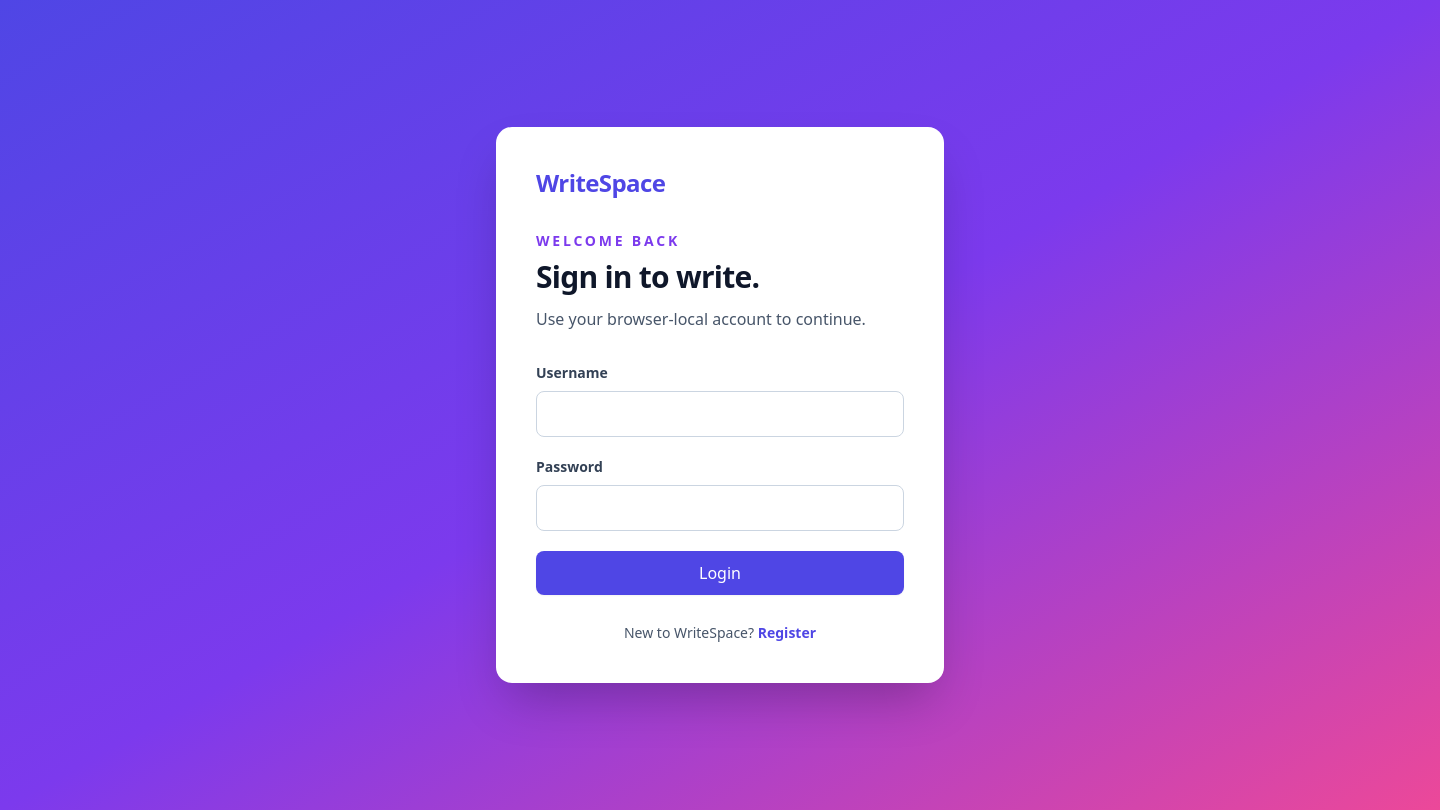
Scenario: authentication pages › shows the required invalid login message
The image size is (1440, 810).
Type "admin" into the field labelled "Username" at (720, 414), box [536, 391, 904, 437]
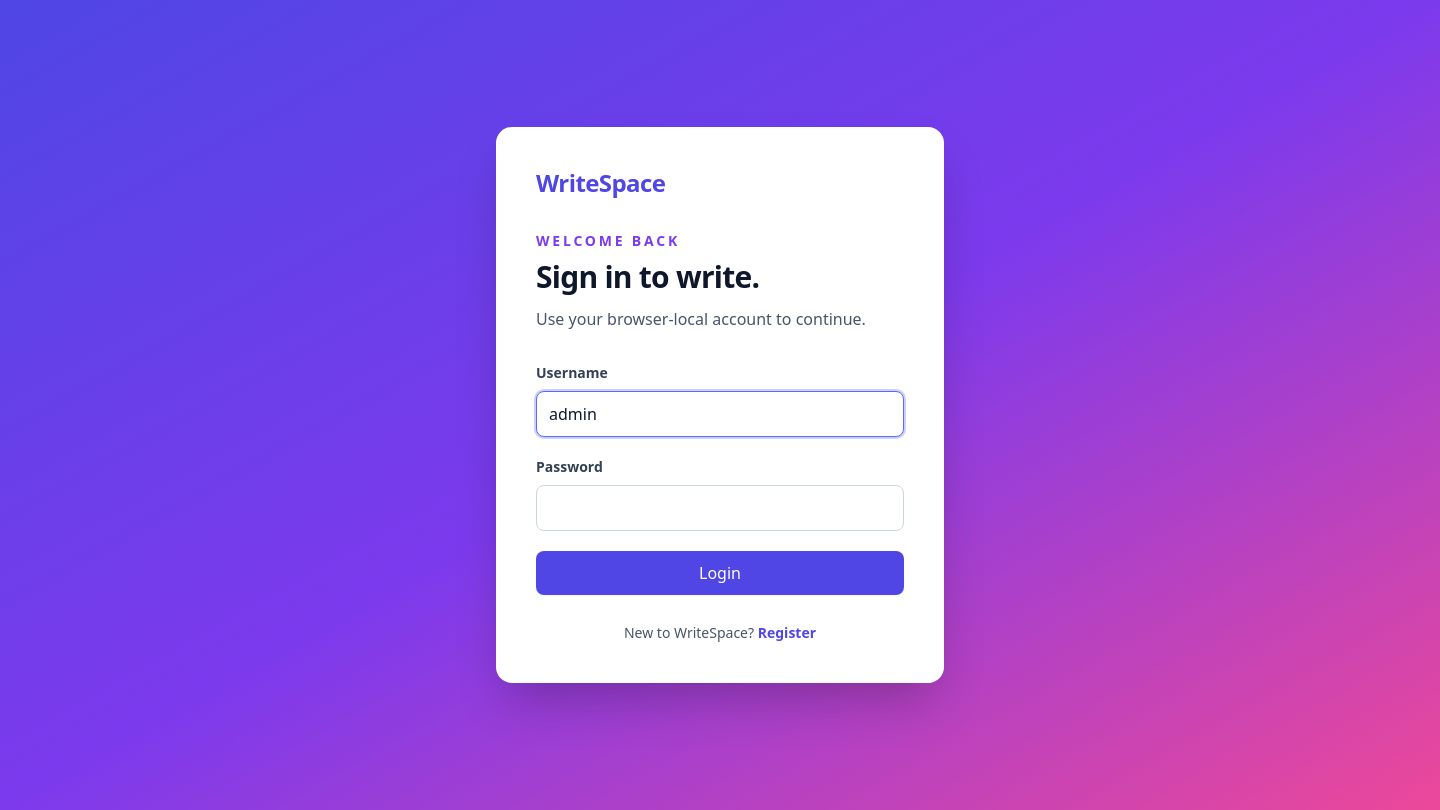
Type "bad" into the password field labelled "Password" at (720, 508), box [536, 485, 904, 531]
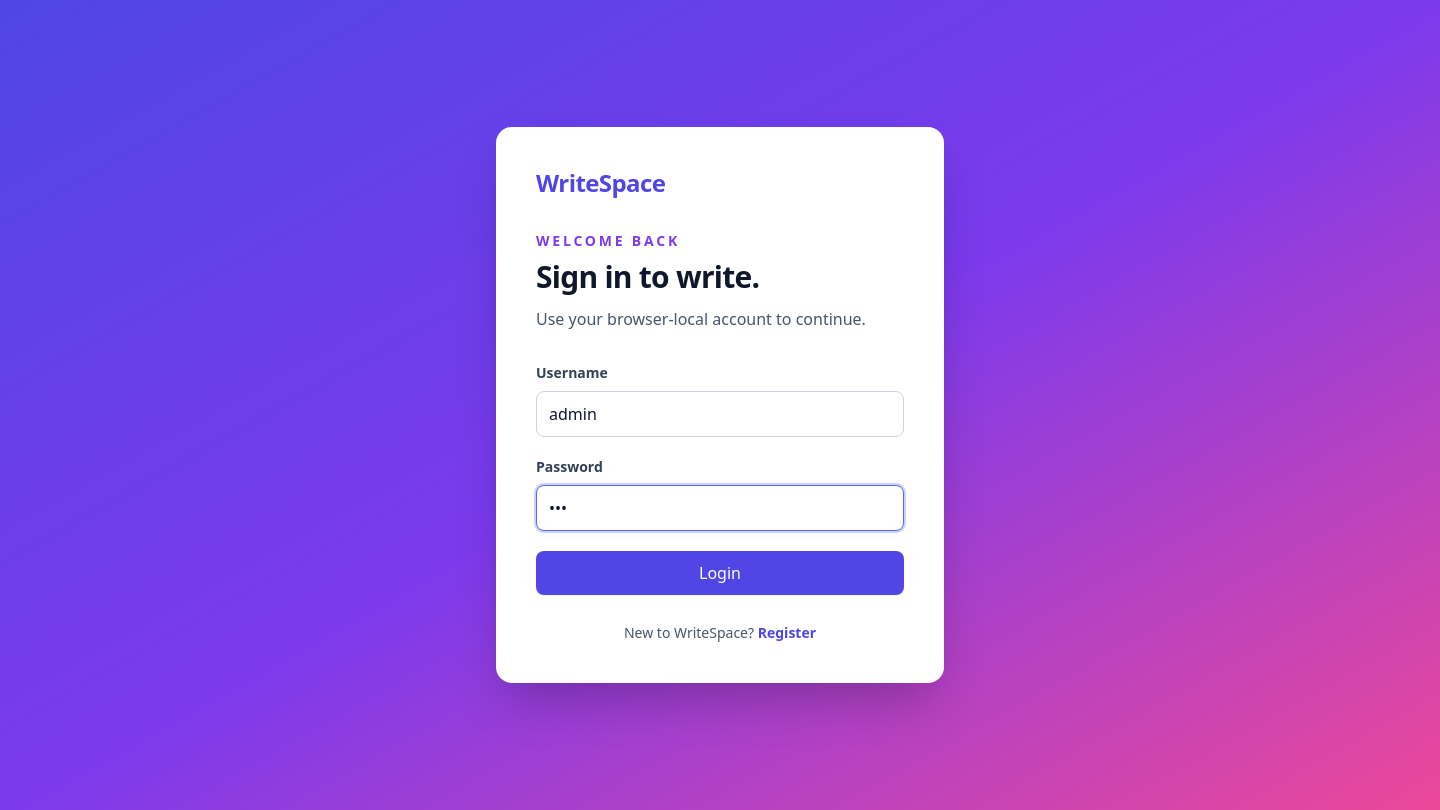
Click the button "Login" at (720, 573), box [536, 551, 904, 595]
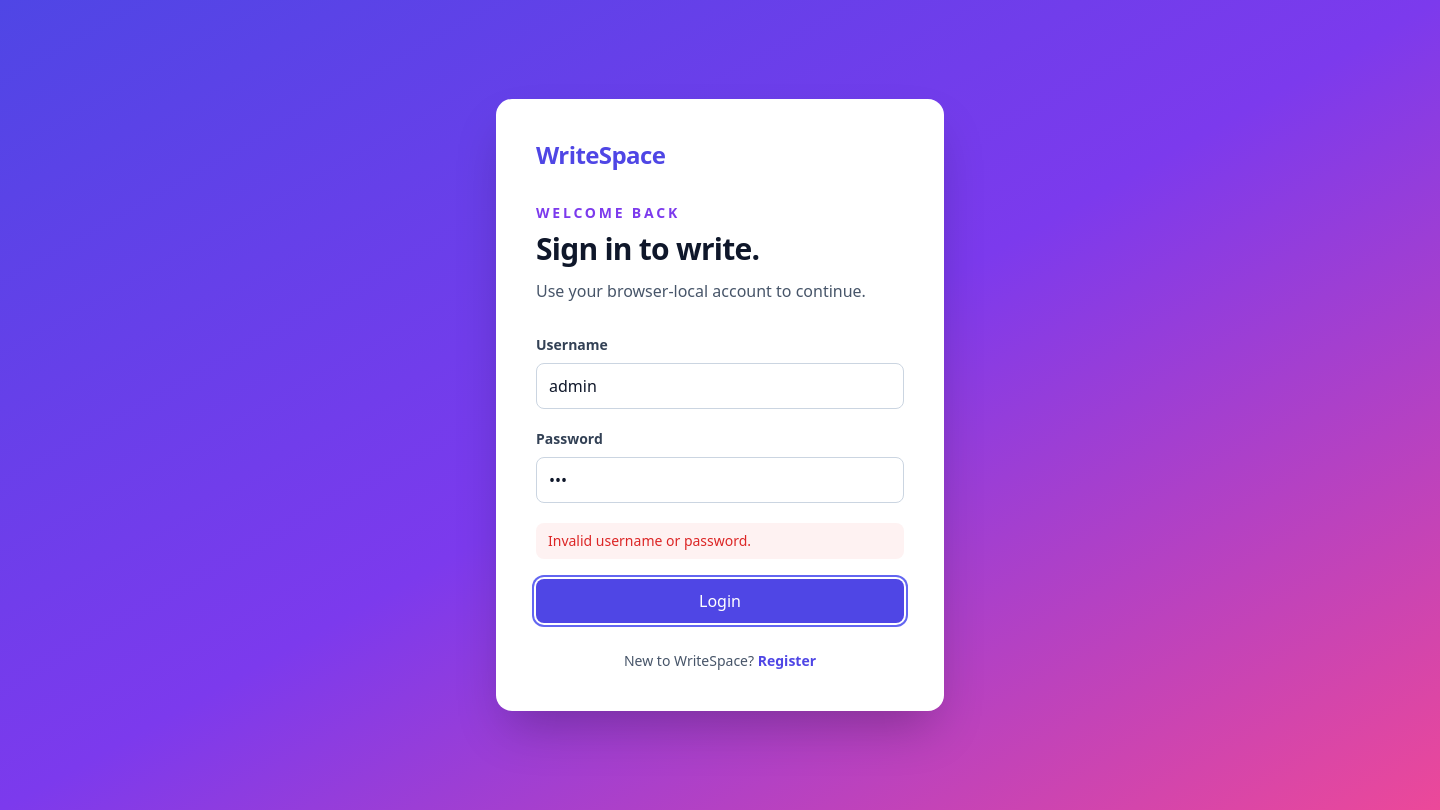
Check: the message reads "Invalid username or password.", box [548, 531, 751, 550]
